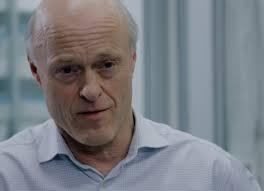normalEye: (42, 44, 125, 85)
normalMouth: (66, 100, 125, 125)
